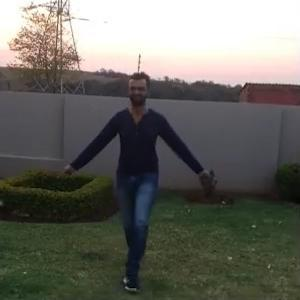land: (32, 55, 233, 287)
